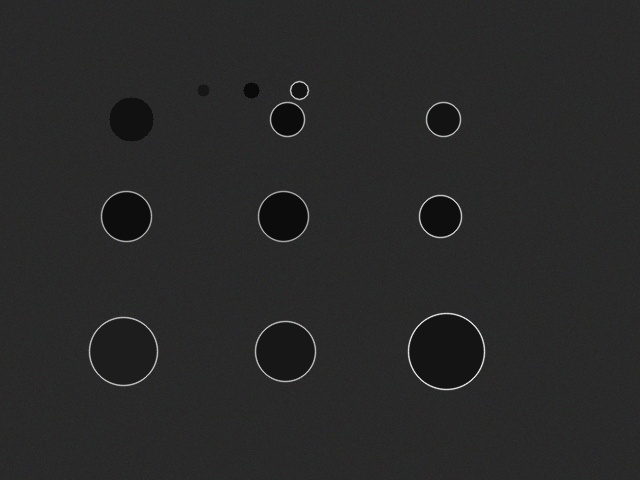hole: (408, 313, 484, 389), (89, 317, 157, 385), (255, 321, 315, 381), (101, 191, 151, 241), (258, 191, 308, 241), (109, 97, 153, 141), (419, 195, 461, 237), (270, 102, 304, 136), (426, 102, 460, 136), (290, 81, 308, 99), (243, 82, 259, 98), (197, 84, 209, 96)
